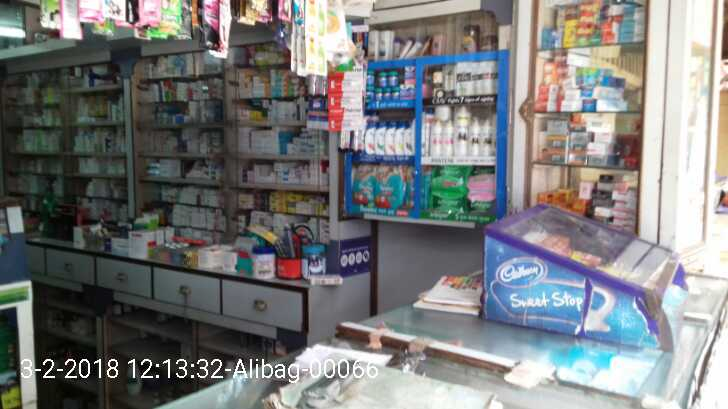vicks: (364, 66, 416, 103)
